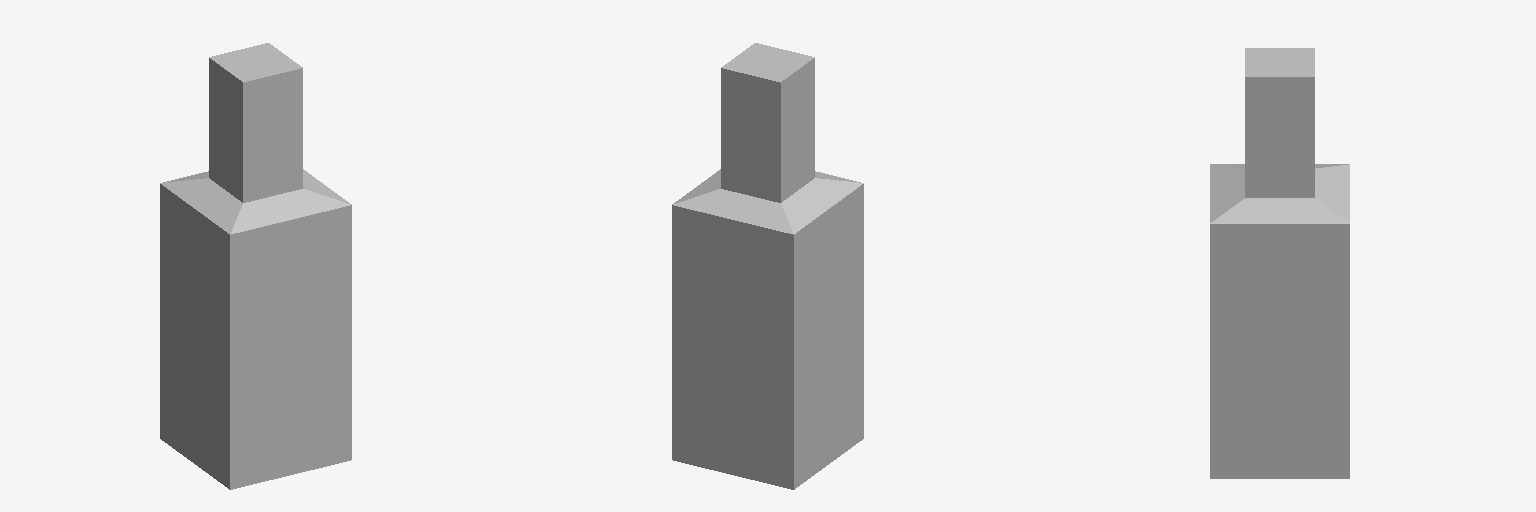
File: bottle.obj
The picture shows the model from 3 angles: view 1: azimuth 30°, elevation 25°; view 2: azimuth 150°, elevation 25°; view 3: azimuth 270°, elevation 25°; orthographic projection.
Visible parts, largest first — view 1: Cube; view 2: Cube; view 3: Cube.
Part boxes in pixels (left/top/right/bottom): Cube: left=160, top=43, right=351, bottom=489; Cube: left=672, top=43, right=863, bottom=489; Cube: left=1210, top=48, right=1349, bottom=478.
Size of the model in its own units: 1.07 by 3.24 by 1.07.